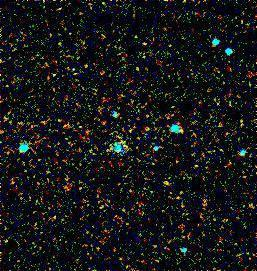star: (134, 115, 164, 145)
